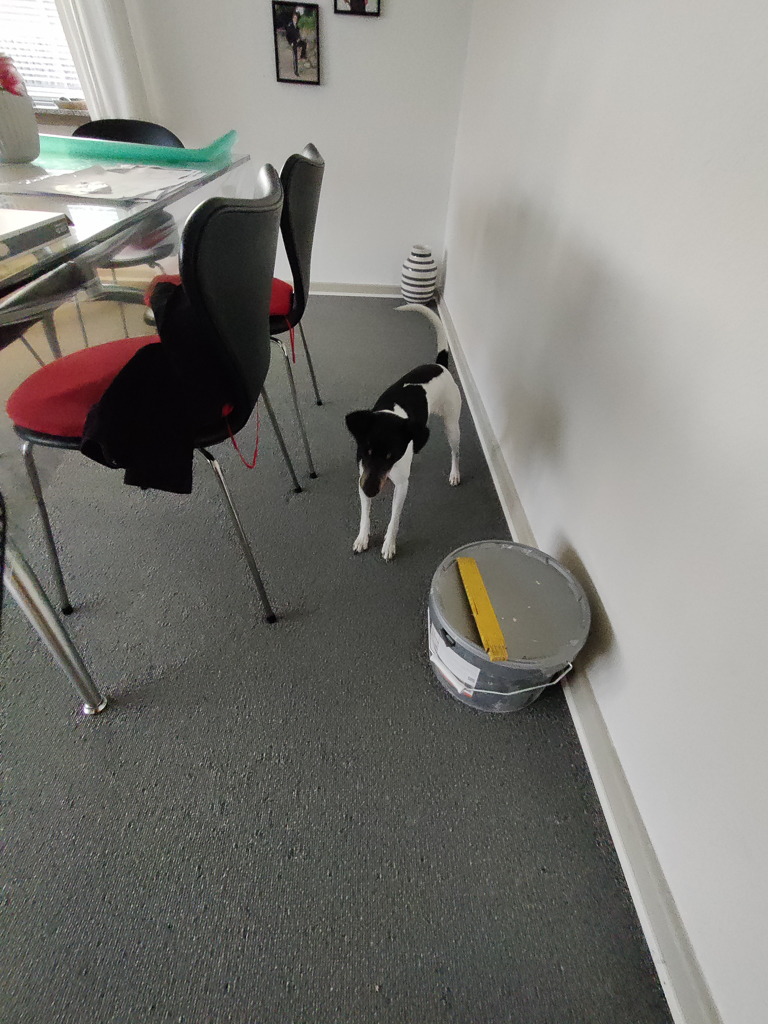Dog: (323, 297, 480, 565)
